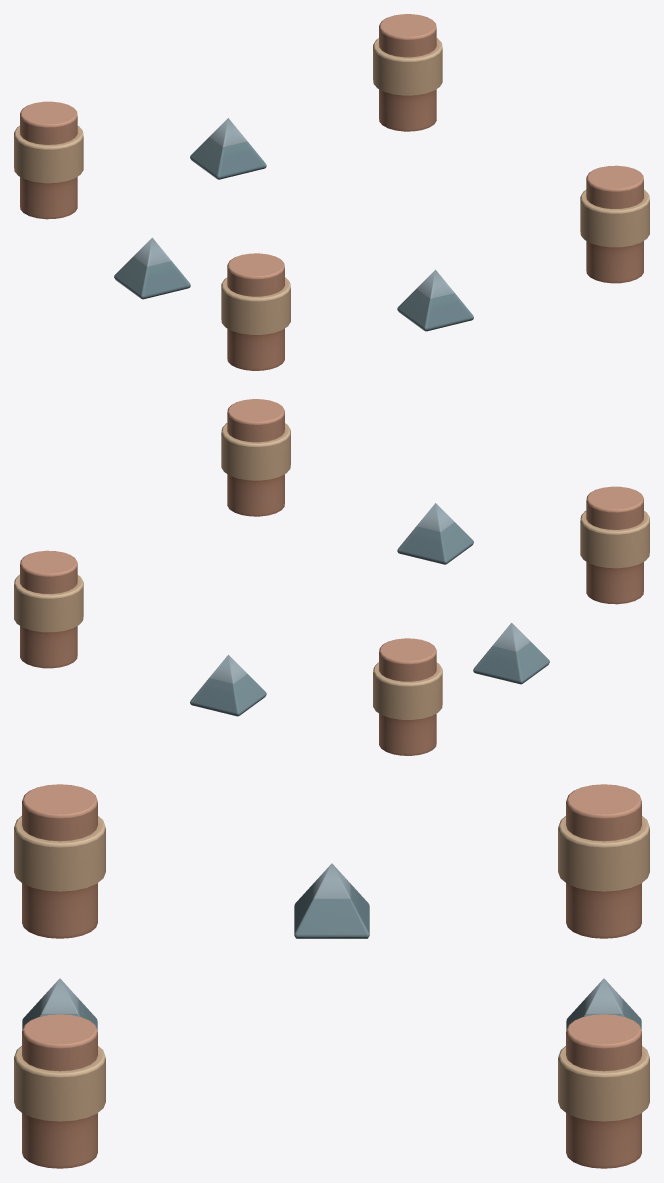
File: Props.fbx
3 renders of one model, top to bottom at view 1: azimuth 30°, elevation 25°; view 2: azimuth 150°, elevation 25°; view 3: azimuth 270°, elevation 25°, orthographic. The views are drawn at different scales.
Visible parts, largest first — view 1: 三角锥 (×3), Cylinder-2 (3), Cylinder-2 (1), Cylinder-2, Cylinder-2 (2); view 2: 三角锥 (×3), Cylinder-2, Cylinder-2 (2), Cylinder-2 (3), Cylinder-2 (1); view 3: Cylinder-2 (1), Cylinder-2 (2), Cylinder-2, Cylinder-2 (3), 三角锥 (×3).
Part boxes in pixels (<box>): 三角锥 (×3): <box>114,118,473,331</box>; Cylinder-2 (3): <box>580,165,649,283</box>; Cylinder-2 (1): <box>221,253,290,370</box>; Cylinder-2: <box>373,14,442,131</box>; Cylinder-2 (2): <box>14,101,83,219</box>; 三角锥 (×3): <box>190,503,549,716</box>; Cylinder-2: <box>14,550,83,668</box>; Cylinder-2 (2): <box>373,638,442,755</box>; Cylinder-2 (3): <box>221,399,290,516</box>; Cylinder-2 (1): <box>580,486,649,604</box>; Cylinder-2 (1): <box>14,784,105,938</box>; Cylinder-2 (2): <box>558,784,649,938</box>; Cylinder-2: <box>558,1014,649,1168</box>; Cylinder-2 (3): <box>14,1014,105,1168</box>; 三角锥 (×3): <box>22,863,641,1029</box>.
Size of the model in its own units: 23.38 by 5.04 by 23.38.
